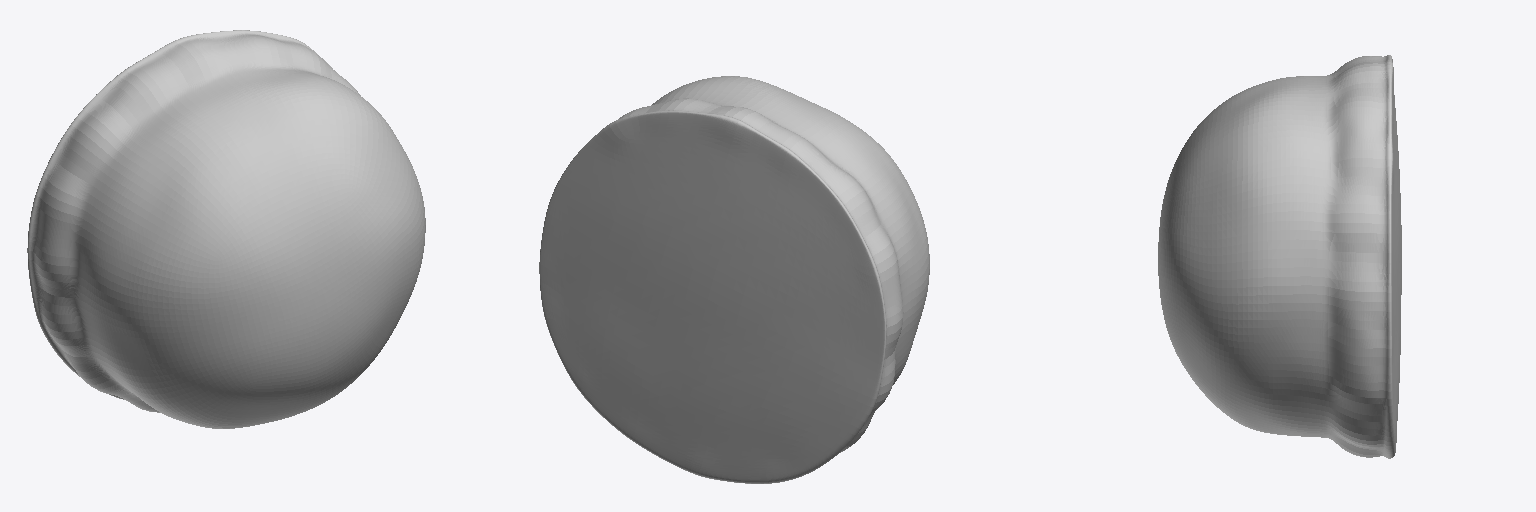
File: melocake.obj
The picture shows the model from 3 angles: view 1: azimuth 30°, elevation 25°; view 2: azimuth 150°, elevation 25°; view 3: azimuth 270°, elevation 25°; orthographic projection.
Parts seen in each view (by area): view 1: Box01; view 2: Box01; view 3: Box01.
Part boxes in pixels (x1,y1,x2,y2): Box01: (27,30,425,428); Box01: (539,76,929,483); Box01: (1158,55,1401,458).
Size of the model in its own units: 214 by 216 by 130.